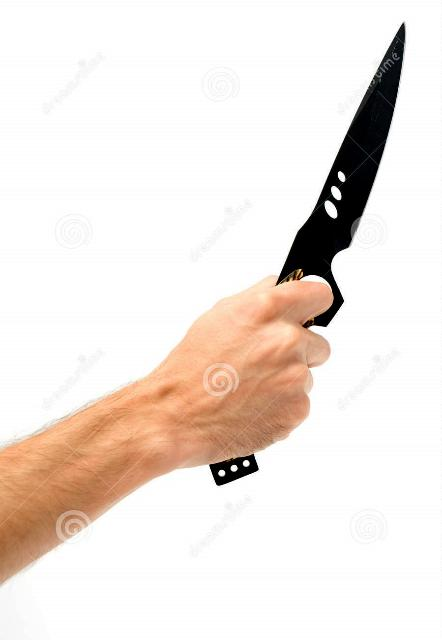pocket-knife: (252, 12, 416, 410)
